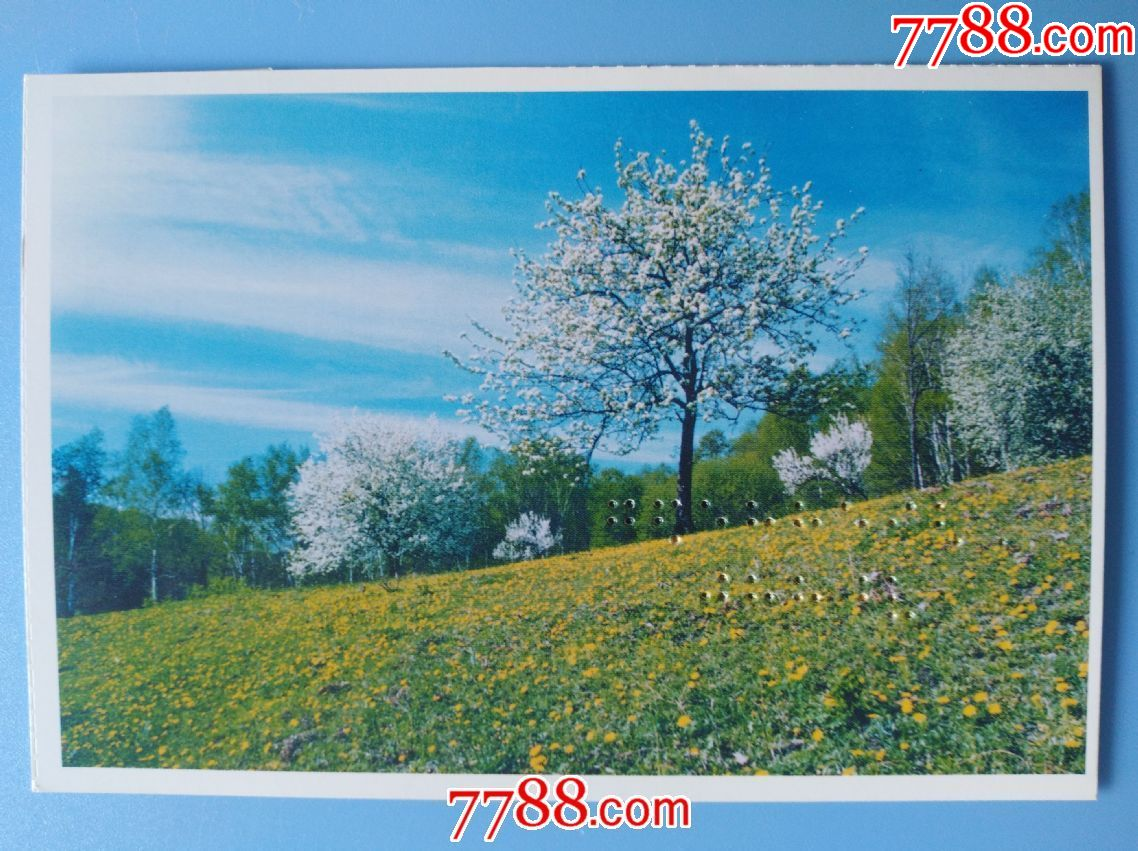Braille: (652, 494, 685, 546), (837, 498, 871, 547), (791, 498, 823, 549), (697, 570, 730, 619), (935, 498, 965, 551), (744, 572, 776, 621), (836, 572, 868, 621), (887, 573, 917, 625), (745, 498, 776, 548), (700, 496, 729, 547), (887, 498, 917, 547), (607, 496, 636, 546), (793, 576, 823, 622)
